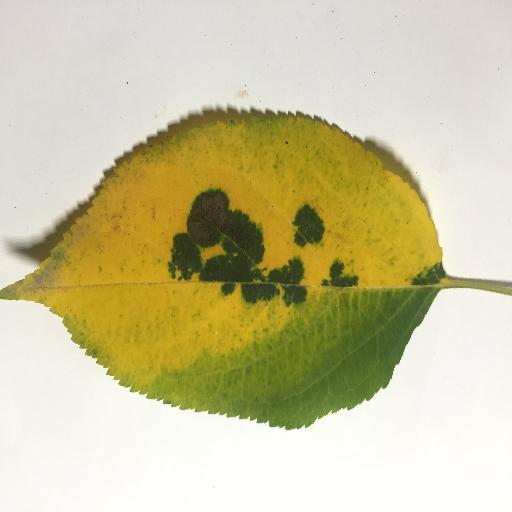Brown_Spot: (187, 191, 224, 240)
